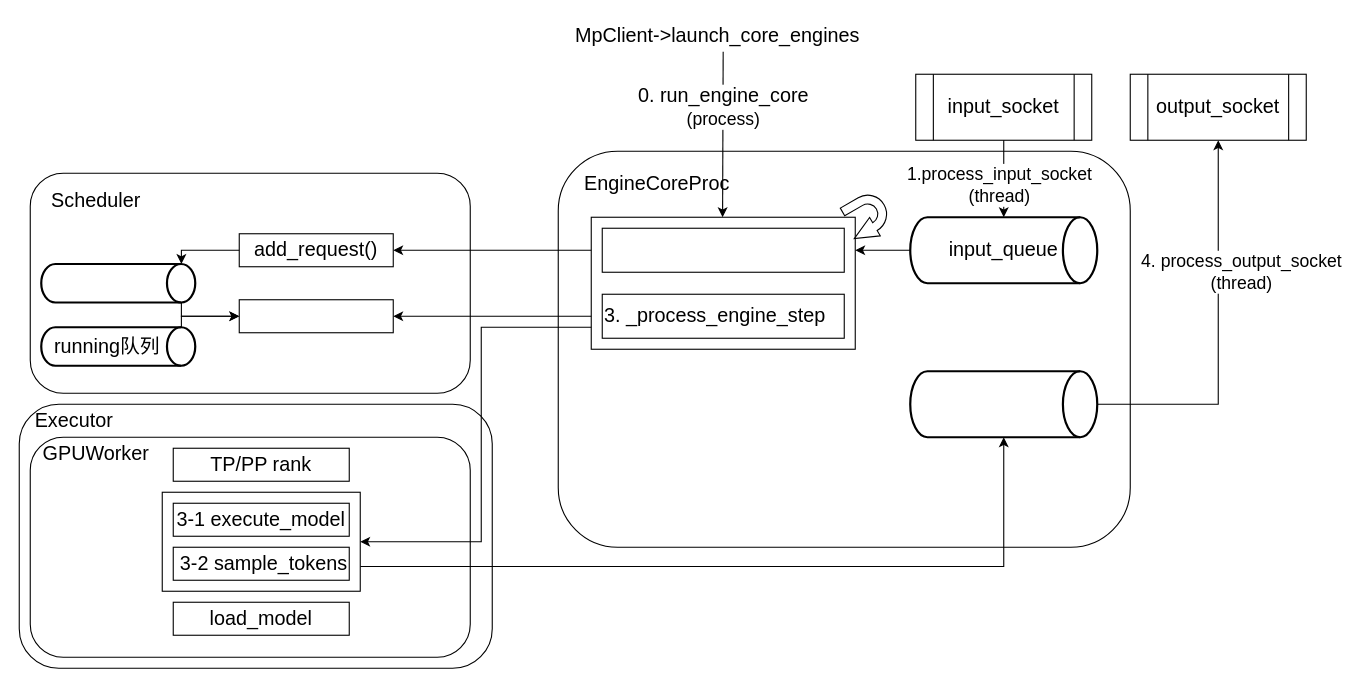
This 1360x688 diagram has some shape labels left out. Each missing label, with the box of its shape:
2. _process_input_queue: (601, 227, 844, 272)
busy loop: (839, 187, 897, 246)
output_queue: (909, 370, 1098, 438)
Schedule(): (238, 299, 393, 333)
waiting队列: (40, 262, 196, 303)
